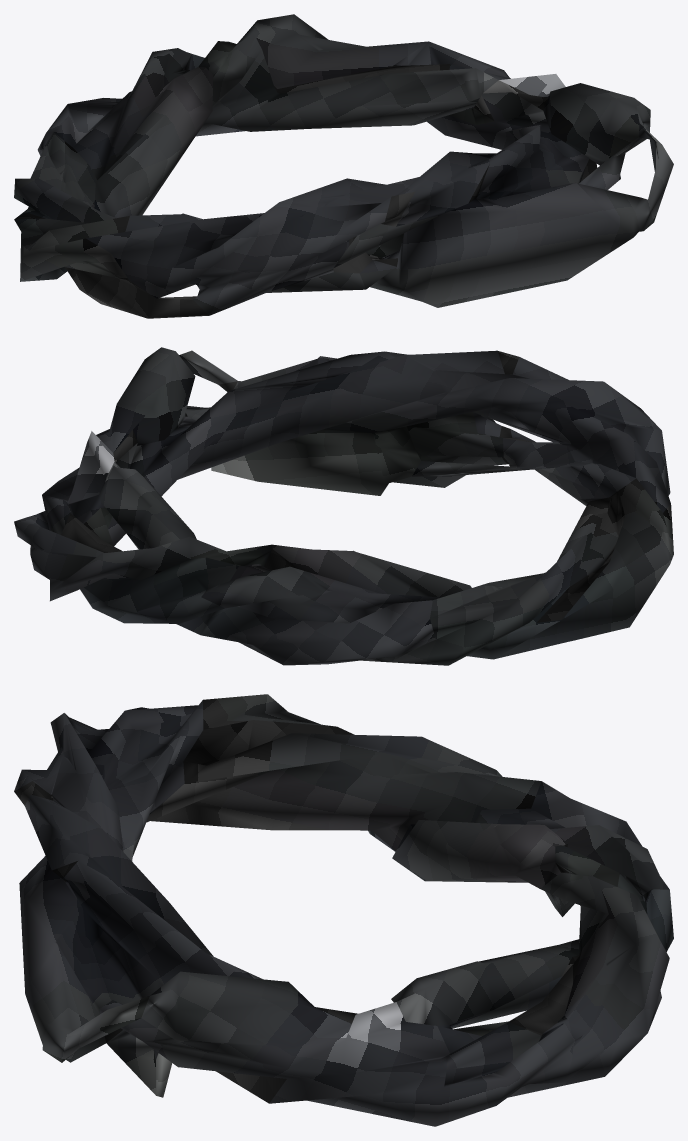
Rendered from Ubisoft_RockSmith_Real_Tone_Cable_Xbox_360-low.glb.
The picture shows the model from 3 angles, top to bottom: view 1: azimuth 30°, elevation 25°; view 2: azimuth 150°, elevation 25°; view 3: azimuth 270°, elevation 25°; orthographic projection. The views are drawn at different scales.
Parts seen in each view (by area): view 1: Ubisoft_RockSmith_Real_Tone_Cable_Xbox_360; view 2: Ubisoft_RockSmith_Real_Tone_Cable_Xbox_360; view 3: Ubisoft_RockSmith_Real_Tone_Cable_Xbox_360.
Boxes of the visible parts, x1,y1,x2,y2 form: Ubisoft_RockSmith_Real_Tone_Cable_Xbox_360: [14, 14, 673, 318]; Ubisoft_RockSmith_Real_Tone_Cable_Xbox_360: [14, 347, 673, 665]; Ubisoft_RockSmith_Real_Tone_Cable_Xbox_360: [14, 694, 673, 1126].
Bounding box in the file's own units: 0.1709 × 0.0421 × 0.139.
1 material, 1 textured.
